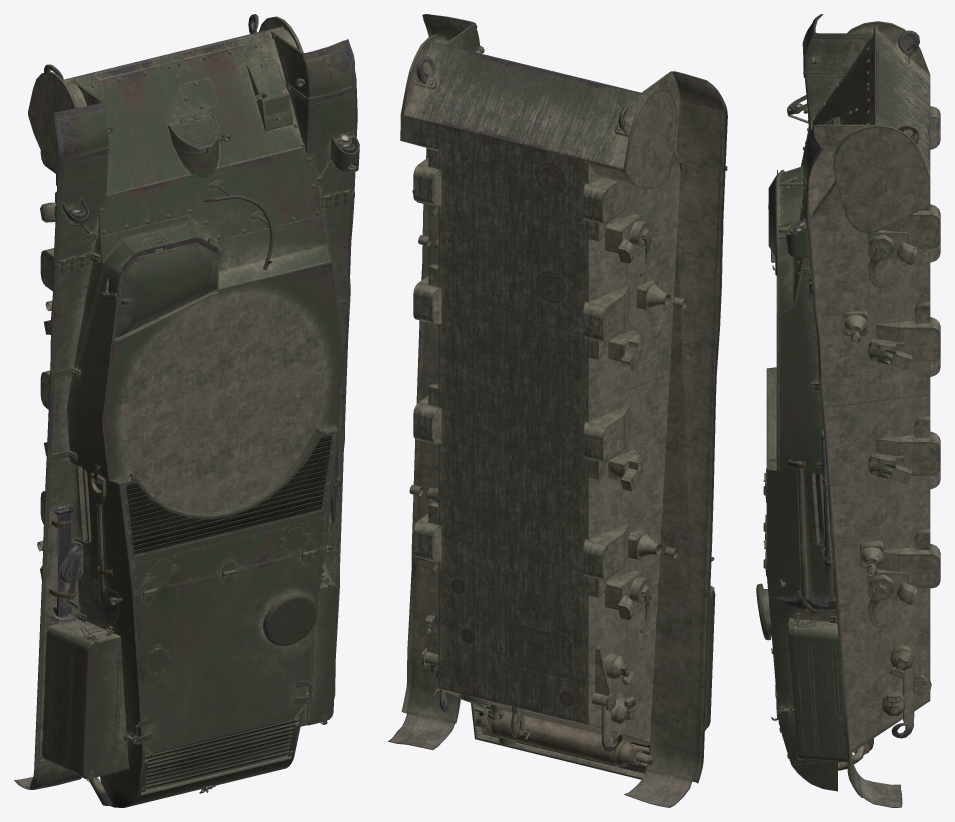
The model's file is Hull.glb.
3 renders of one model, left to right at view 1: azimuth 30°, elevation 25°; view 2: azimuth 150°, elevation 25°; view 3: azimuth 270°, elevation 25°, orthographic. The views are drawn at different scales.
Visible parts, largest first — view 1: set_0_group_0; view 2: set_0_group_0; view 3: set_0_group_0.
Part boxes in pixels (bbox=[...]): set_0_group_0: bbox=[14, 14, 359, 807]; set_0_group_0: bbox=[388, 14, 727, 807]; set_0_group_0: bbox=[756, 14, 940, 807].
Size of the model in its own units: 2.08 by 4.78 by 1.17.
Materials: 1 (1 with a texture image).
